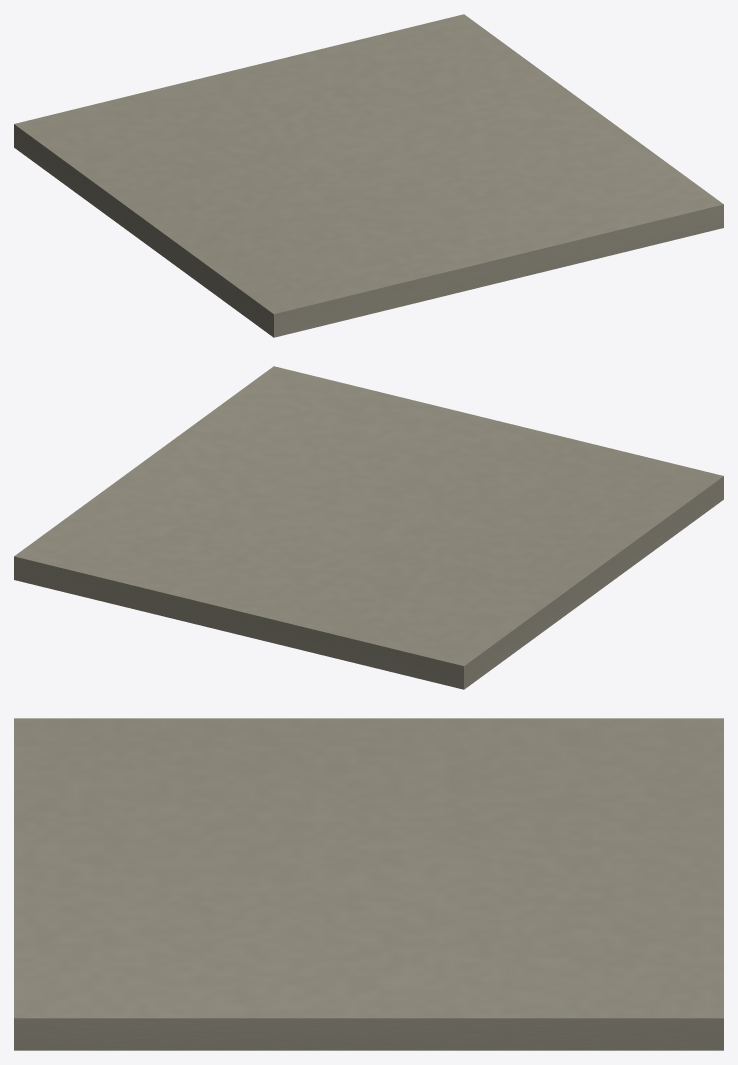
Rendered from ceiling-panel.glb.
The picture shows the model from 3 angles, top to bottom: view 1: azimuth 30°, elevation 25°; view 2: azimuth 150°, elevation 25°; view 3: azimuth 270°, elevation 25°; orthographic projection. The views are drawn at different scales.
Parts seen in each view (by area): view 1: Ceiling_Slab; view 2: Ceiling_Slab; view 3: Ceiling_Slab.
Part boxes in pixels (left/top/right/bottom): Ceiling_Slab: left=14, top=14, right=723, bottom=337; Ceiling_Slab: left=14, top=366, right=723, bottom=689; Ceiling_Slab: left=14, top=718, right=723, bottom=1050.
Bounding box in the file's own units: 4 × 0.285 × 4.
3 materials, 1 textured.
